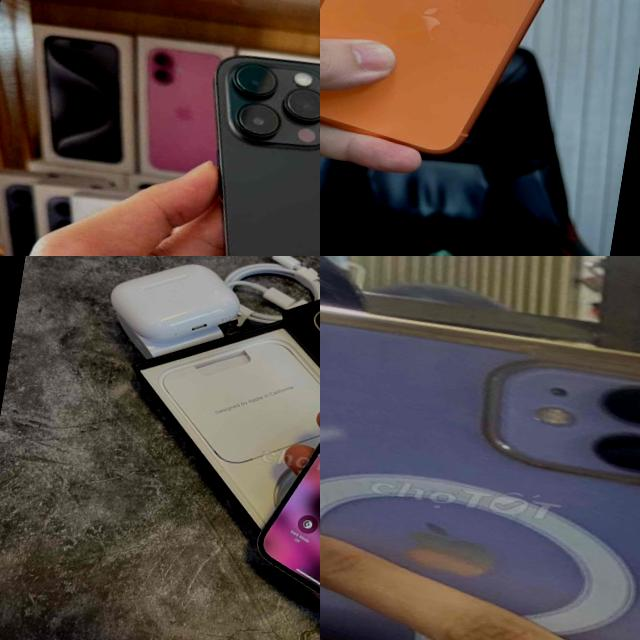gen_11: (320, 279, 640, 640)
gen_12_13: (239, 273, 320, 640)
gen_14: (153, 35, 320, 256)
